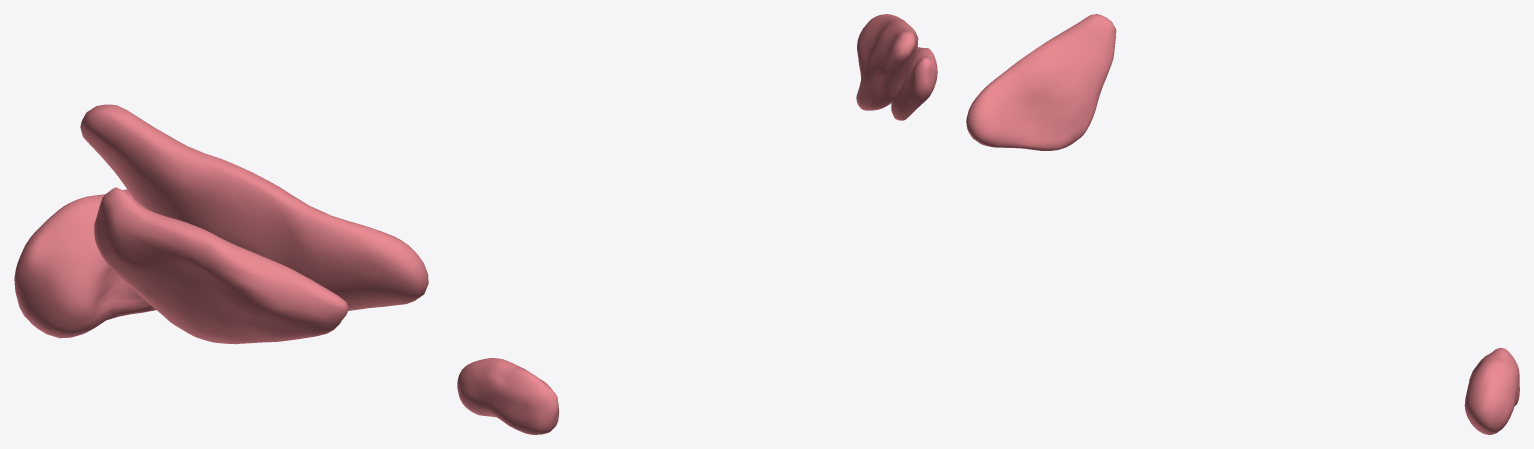
Rendered from lesiones.gltf.
3 views of the same model, side by side, from view 1: azimuth 30°, elevation 25°; view 2: azimuth 150°, elevation 25°; view 3: azimuth 270°, elevation 25° (orthographic). The views are drawn at different scales.
Parts seen in each view (by area): view 1: epulis1, epulis2, fibroma_traumatico; view 2: fibroma_traumatico, epulis1, epulis2; view 3: epulis1, fibroma_traumatico.
Part boxes in pixels (x1,y1,x2,y2): epulis1: [80, 104, 428, 310]; epulis2: [94, 187, 348, 344]; fibroma_traumatico: [14, 189, 155, 338]; fibroma_traumatico: [457, 358, 559, 434]; epulis1: [856, 14, 918, 110]; epulis2: [891, 47, 937, 120]; epulis1: [966, 14, 1116, 150]; fibroma_traumatico: [1464, 348, 1519, 434].
Size of the model in its own units: 0.0344 by 0.036 by 0.0594.
